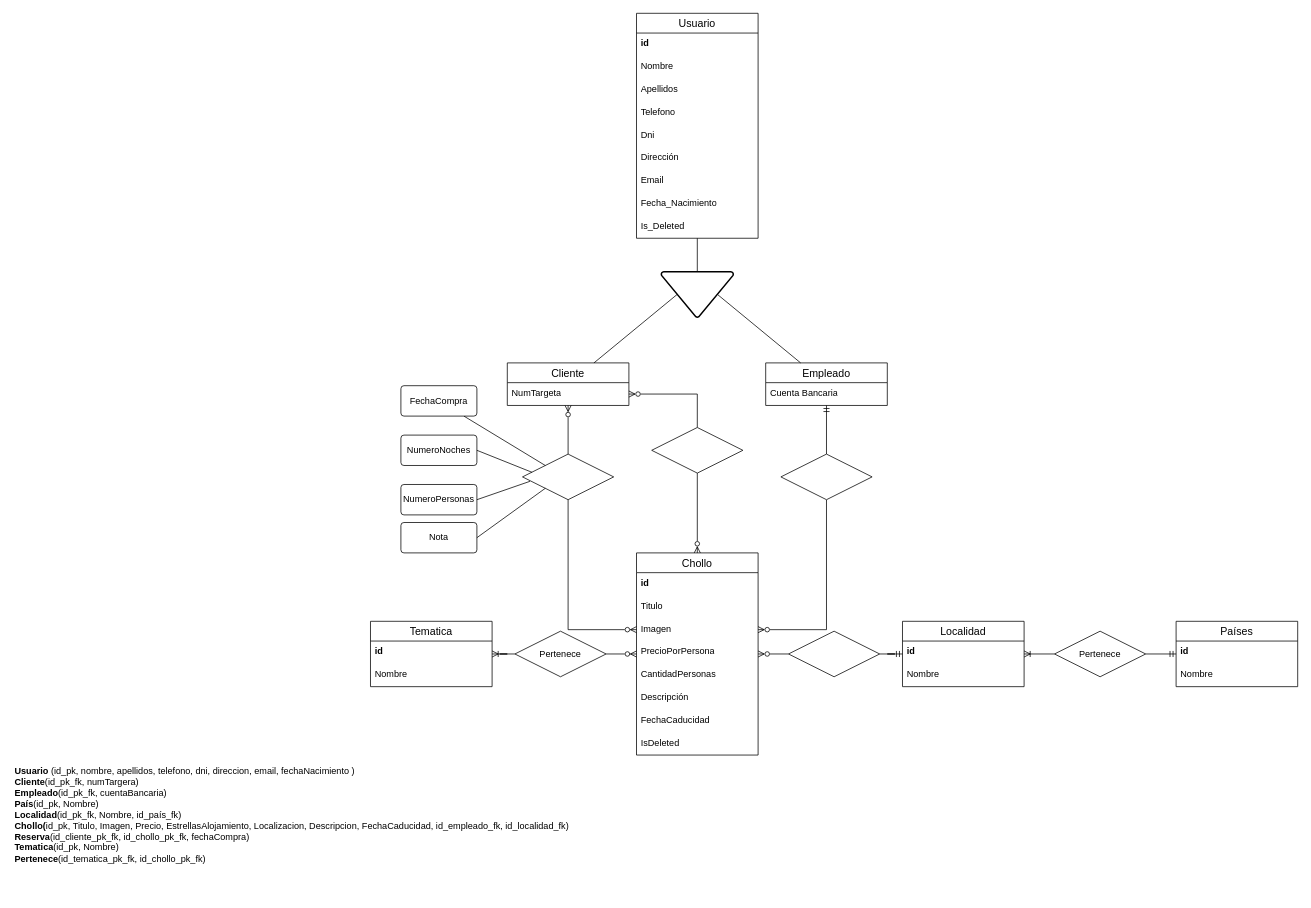
This 1311x908 diagram has some shape labels left out. Here are the shapes that lost their labels. From the top down, the centre of each, then its label:
At point 697,450: "Favorito".
At point 568,476: "Reserva".
At point 826,476: "Añade".
At point 834,653: "Es de".
